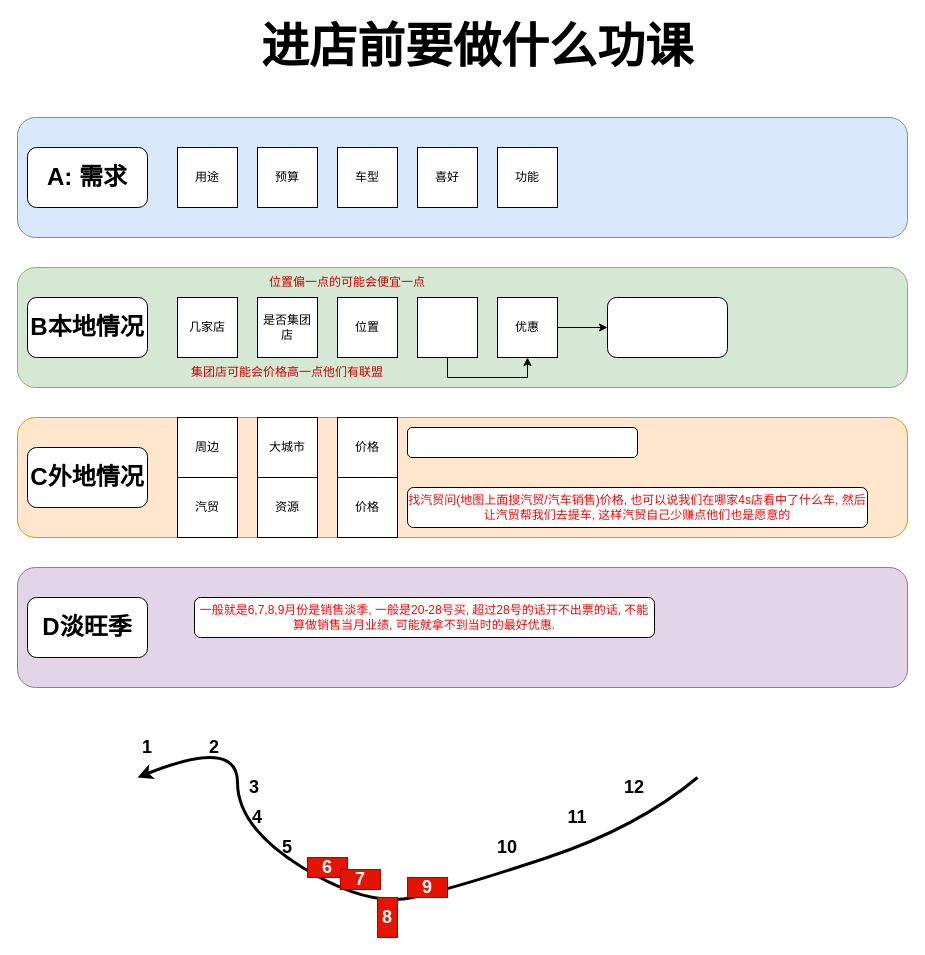
This 925x955 diagram has some shape labels left out. Each missing label, with the box of its shape:
去之前打个电话问问是否有现车, 大概优惠多少: (606, 296, 728, 358)
周边城市打电话问问,大城市的价格比小城市一般优惠大些: (406, 426, 638, 458)
现车: (416, 296, 478, 358)
